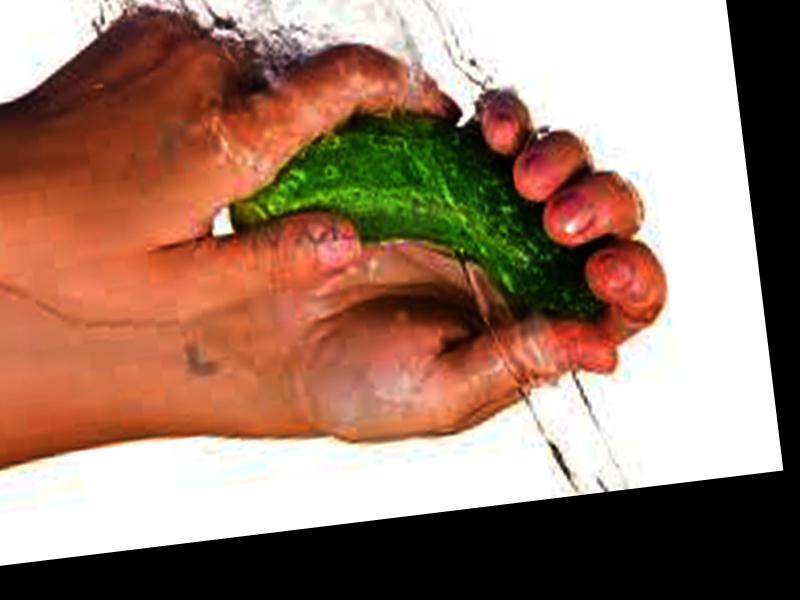Cucumber: (216, 85, 605, 360)
